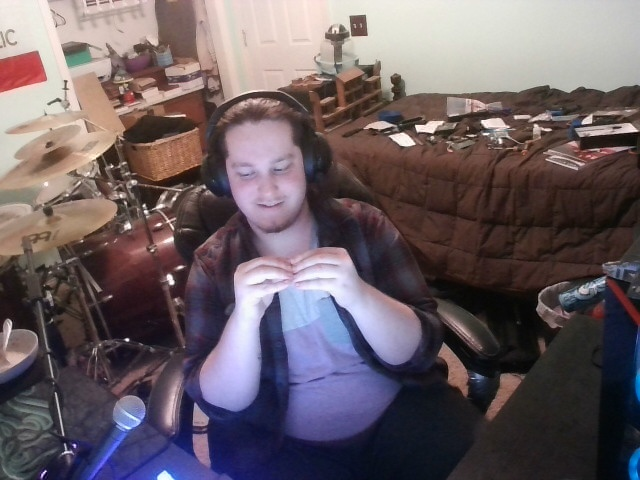more: (227, 240, 363, 321)
